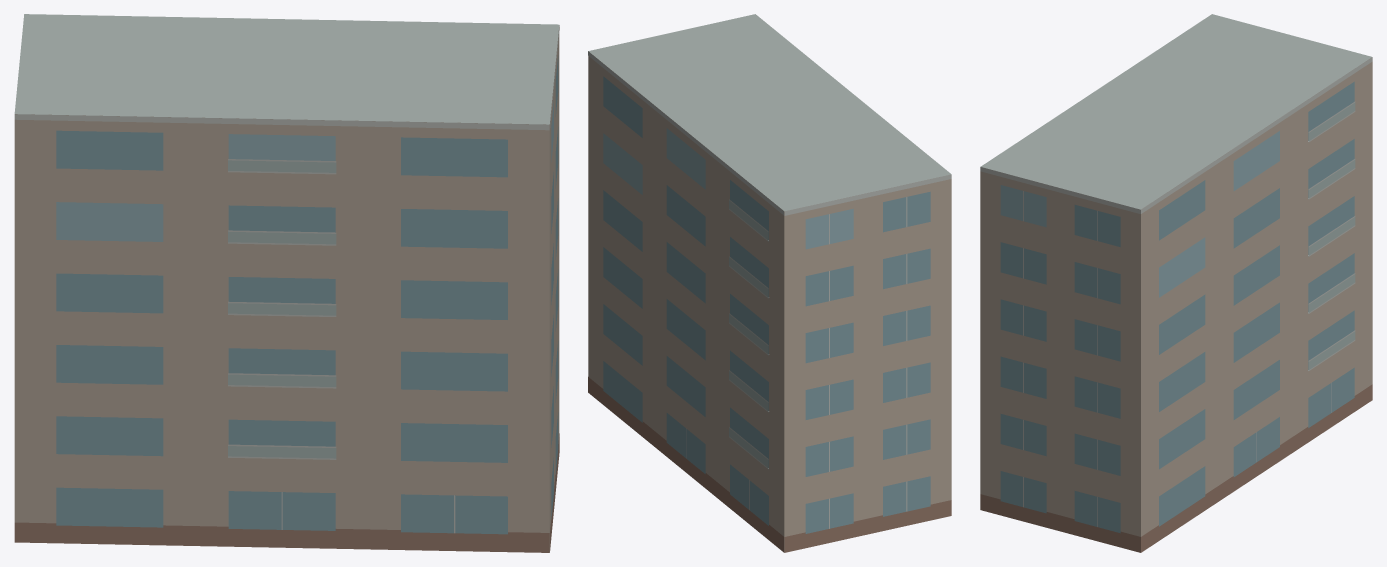
File: survey-upis-32864851.glb
3 renders of one model, left to right at view 1: azimuth 30°, elevation 25°; view 2: azimuth 150°, elevation 25°; view 3: azimuth 270°, elevation 25°, orthographic. The views are drawn at different scales.
Parts seen in each view (by area): view 1: survey-upis-32864851.tmp; view 2: survey-upis-32864851.tmp; view 3: survey-upis-32864851.tmp.
Boxes of the visible parts, <box> form: survey-upis-32864851.tmp: <box>14,14,559,552</box>; survey-upis-32864851.tmp: <box>588,14,951,552</box>; survey-upis-32864851.tmp: <box>980,14,1372,552</box>.
Bounding box in the file's own units: 22.38 × 18.3 × 18.95.
